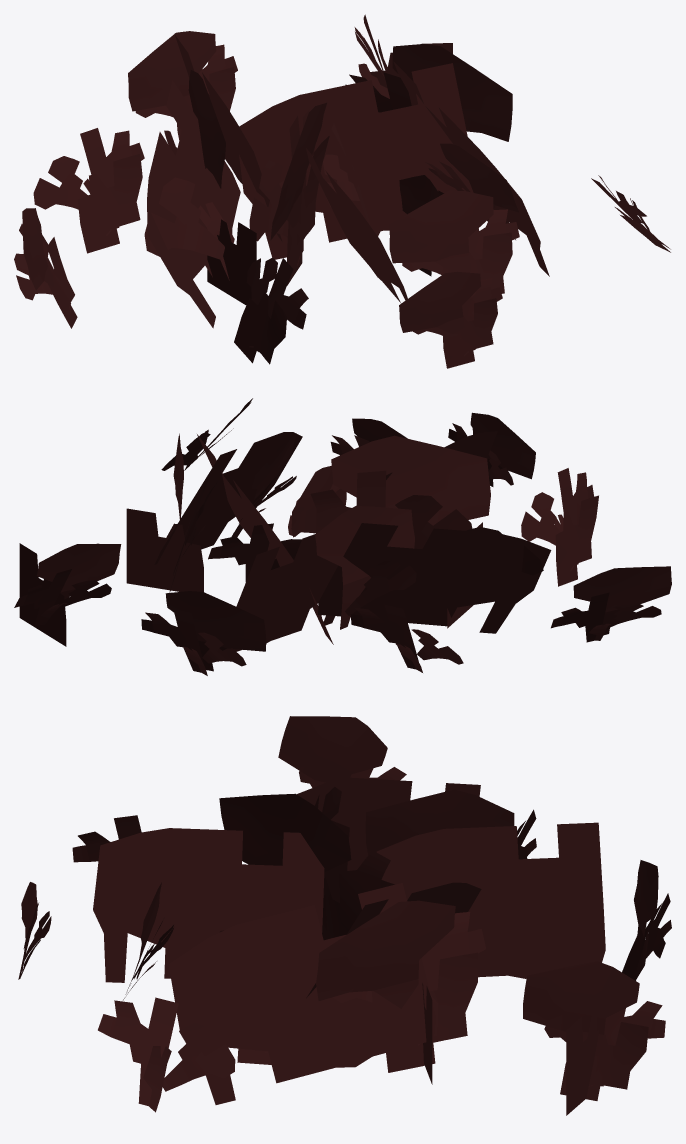
Rendered from SM_ocean_scatterPlant_01_E.fbx.
3 renders of one model, top to bottom at view 1: azimuth 30°, elevation 25°; view 2: azimuth 150°, elevation 25°; view 3: azimuth 270°, elevation 25°, orthographic. The views are drawn at different scales.
Parts seen in each view (by area): view 1: SM_ocean_scatterPlant_01_E_LOD0; view 2: SM_ocean_scatterPlant_01_E_LOD0; view 3: SM_ocean_scatterPlant_01_E_LOD0.
Boxes of the visible parts, x1,y1,x2,y2 form: SM_ocean_scatterPlant_01_E_LOD0: (14, 14, 670, 368); SM_ocean_scatterPlant_01_E_LOD0: (14, 398, 671, 675); SM_ocean_scatterPlant_01_E_LOD0: (18, 716, 671, 1115).
Size of what is drawn, in the model's own units: 45.87 by 41.38 by 14.11.
